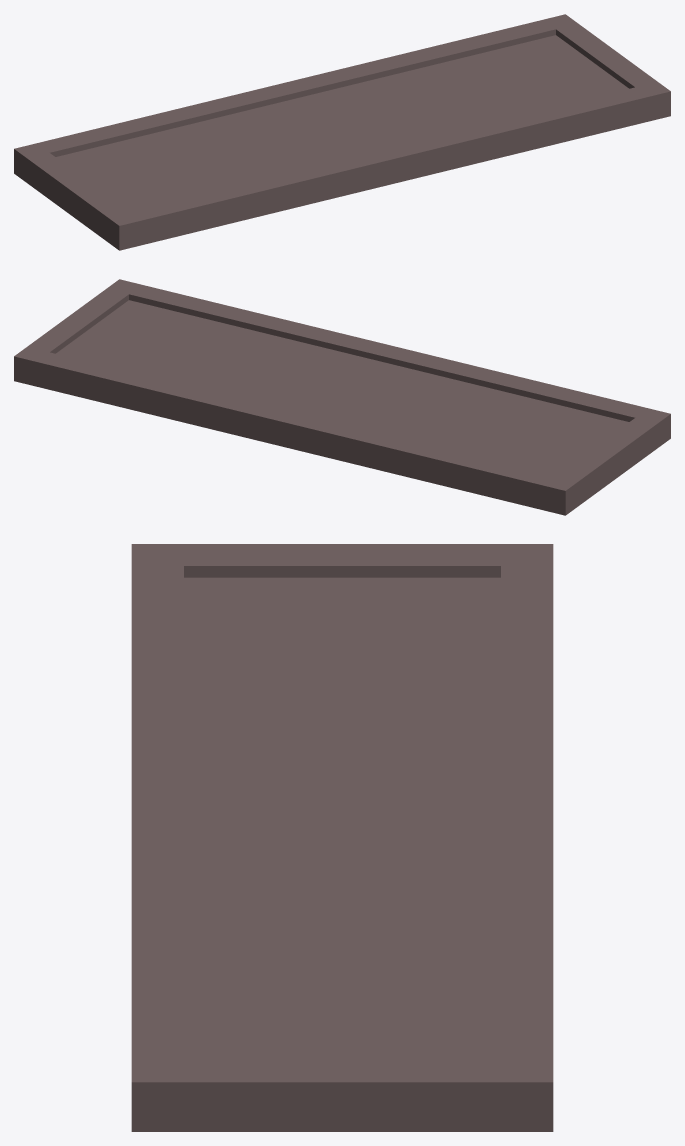
The model's file is StructurePanel.fbx.
3 renders of one model, top to bottom at view 1: azimuth 30°, elevation 25°; view 2: azimuth 150°, elevation 25°; view 3: azimuth 270°, elevation 25°, orthographic. The views are drawn at different scales.
Visible parts, largest first — view 1: fallPlate; view 2: fallPlate; view 3: fallPlate.
Boxes of the visible parts, x1,y1,x2,y2 form: fallPlate: (14,14,670,250); fallPlate: (14,279,670,515); fallPlate: (131,544,553,1131).
Size of the model in its own units: 720 by 30.9 by 238.
